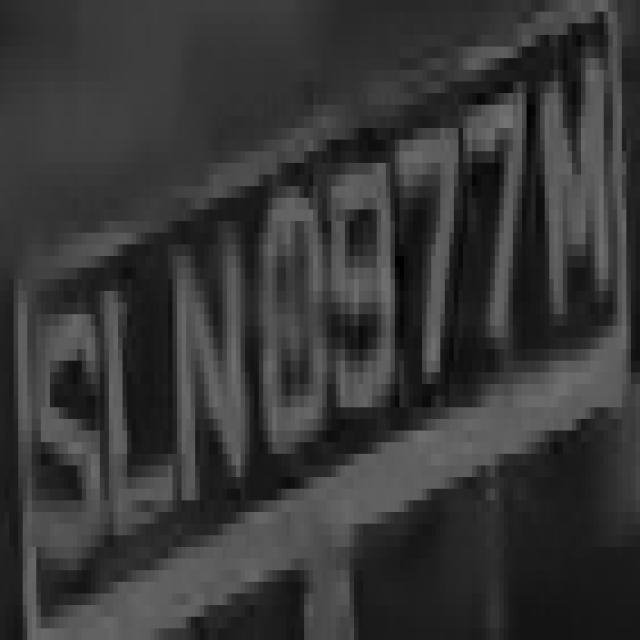7: (400, 58, 468, 431), (468, 58, 531, 454)
8: (250, 93, 336, 524)
9: (322, 105, 395, 465)
L: (96, 151, 172, 582)
M: (536, 58, 626, 384)
N: (168, 163, 254, 535)
S: (27, 233, 104, 616)
